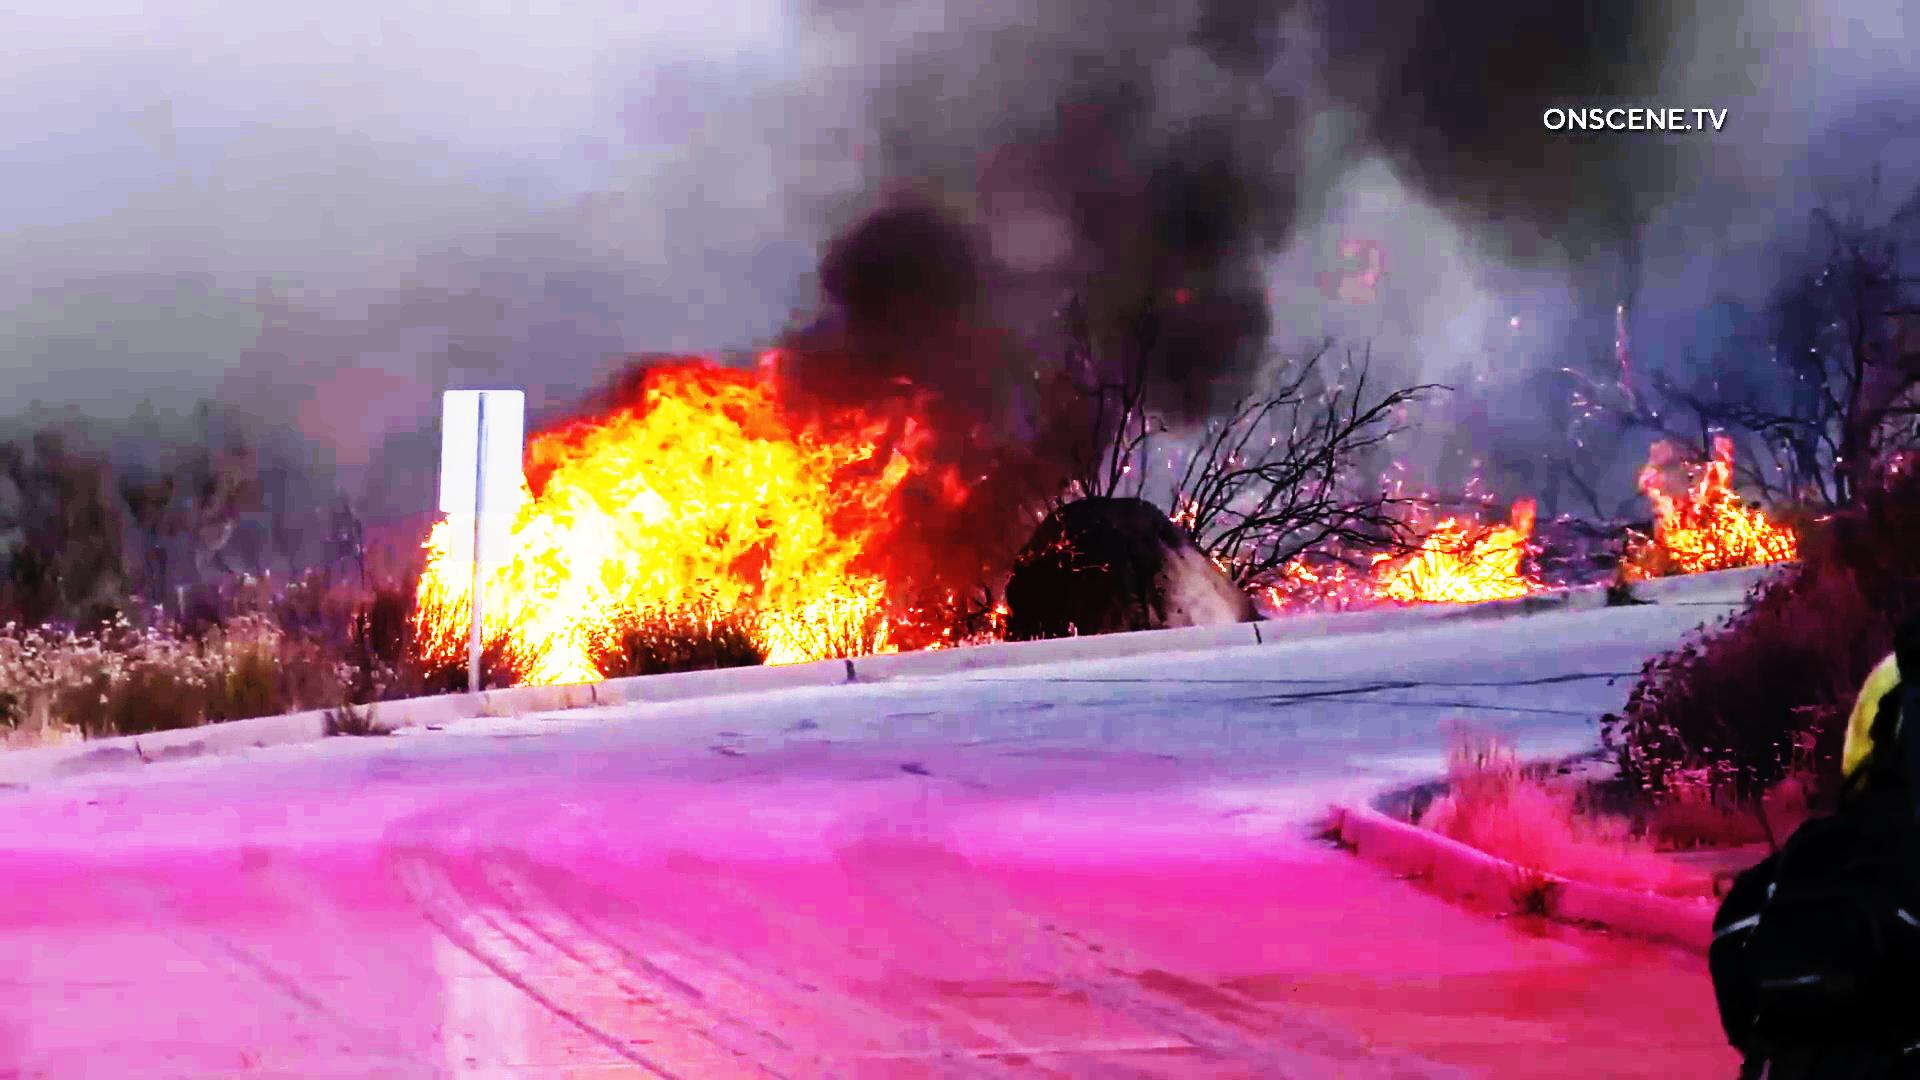fire: (415, 335, 948, 673), (1321, 505, 1545, 615)
smoke: (766, 0, 1423, 422)
